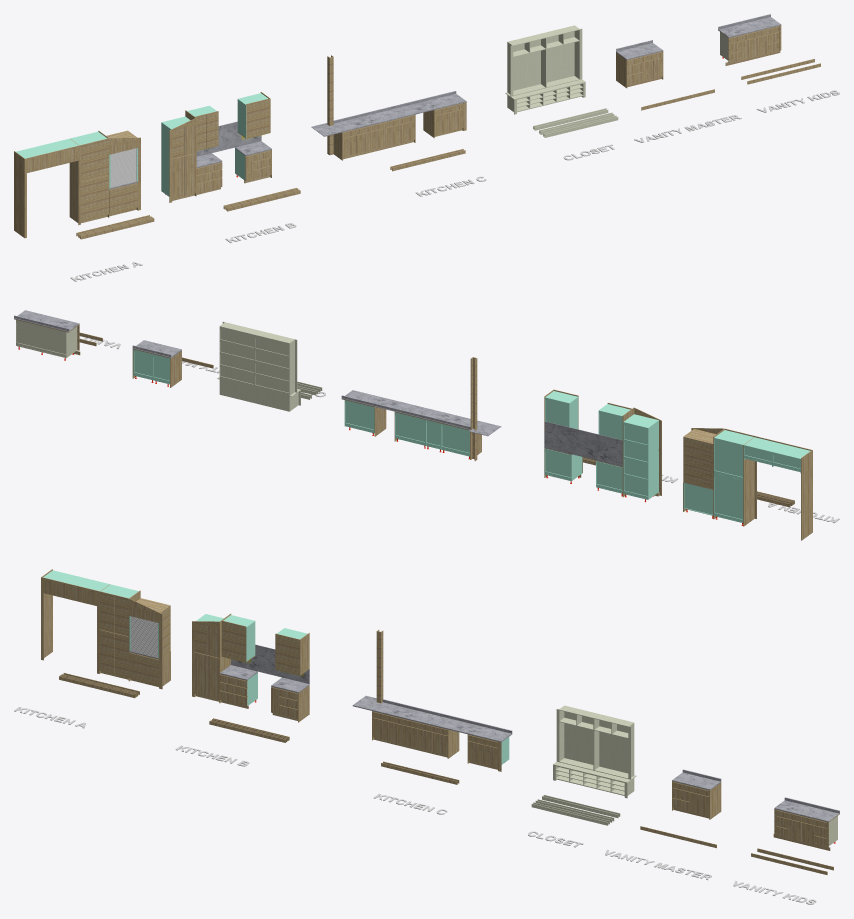
The model's file is DAIKITCHEN.glb.
3 renders of one model, top to bottom at view 1: azimuth 30°, elevation 25°; view 2: azimuth 150°, elevation 25°; view 3: azimuth 330°, elevation 25°, orthographic. The views are drawn at different scales.
Parts seen in each view (by area): view 1: _(Loose Entity), G-DAK26_Đá_KITC.T1T3, G-DAK26_Hậu_CLOS.T2, G-DAK26_Hậu_CLOS.T2.001, G-DAK26_Đá_KITB, G-DAK26_Hông trái hoàn thiện_KITA.T1, G-DAK26_Hông phải hoàn thiện 02_KITA.T7, G-DAK26_Hông trái_KITB.T1, G-DAK26_Đá_VAKID.001, _G-DAK26_Cánh phải_KITA.T3 (Loose Mesh), _G-DAK26_Cánh trái_KITA.T3 (Loose Mesh); view 2: G-DAK26_Đá_KITB, G-DAK26_Hậu_KITA.T5, G-DAK26_Hậu_KITB.T1, G-DAK26_Hậu_CLOS.T2.001, G-DAK26_Hậu_CLOS.T2, G-DAK26_Đá_KITC.T1T3, G-DAK26_Hậu_CLOS.T1, G-DAK26_Hậu_KITA.T3, _(Loose Entity), G-DAK26_Hậu_VAKID.T1, G-DAK26_Hông trái_KITB.T1, G-DAK26_Hậu_KITA.T2 (+12 smaller); view 3: _(Loose Entity), G-DAK26_Đá_KITC.T1T3, G-DAK26_Hậu_CLOS.T2.001, G-DAK26_Hậu_CLOS.T2, G-DAK26_Đá_KITB, G-DAK26_Đá_VAKID.001, _G-DAK26_Cánh trái_KITA.T3 (Loose Mesh), _G-DAK26_Cánh phải_KITA.T3 (Loose Mesh).
Part boxes in pixels (x1=…): _(Loose Entity): x1=25, y1=25, x2=781, y2=237; G-DAK26_Đá_KITC.T1T3: x1=333, y1=94, x2=466, y2=132; G-DAK26_Hậu_CLOS.T2: x1=513, y1=39, x2=540, y2=90; G-DAK26_Hậu_CLOS.T2.001: x1=547, y1=31, x2=574, y2=82; G-DAK26_Đá_KITB: x1=196, y1=121, x2=261, y2=156; G-DAK26_Hông trái hoàn thiện_KITA.T1: x1=14, y1=166, x2=25, y2=238; G-DAK26_Hông phải hoàn thiện 02_KITA.T7: x1=69, y1=159, x2=80, y2=224; G-DAK26_Hông trái_KITB.T1: x1=161, y1=122, x2=171, y2=196; G-DAK26_Đá_VAKID.001: x1=718, y1=17, x2=781, y2=37; _G-DAK26_Cánh phải_KITA.T3 (Loose Mesh): x1=95, y1=175, x2=108, y2=217; _G-DAK26_Cánh trái_KITA.T3 (Loose Mesh): x1=81, y1=178, x2=94, y2=221; G-DAK26_Đá_KITB: x1=544, y1=421, x2=622, y2=466; G-DAK26_Hậu_KITA.T5: x1=683, y1=436, x2=713, y2=489; G-DAK26_Hậu_KITB.T1: x1=624, y1=422, x2=647, y2=495; G-DAK26_Hậu_CLOS.T2.001: x1=220, y1=329, x2=253, y2=384; G-DAK26_Hậu_CLOS.T2: x1=255, y1=338, x2=288, y2=392; G-DAK26_Đá_KITC.T1T3: x1=342, y1=390, x2=481, y2=429; G-DAK26_Hậu_CLOS.T1: x1=220, y1=380, x2=288, y2=411; G-DAK26_Hậu_KITA.T3: x1=715, y1=476, x2=742, y2=519; _(Loose Entity): x1=73, y1=321, x2=811, y2=518; G-DAK26_Hậu_VAKID.T1: x1=17, y1=322, x2=65, y2=354; G-DAK26_Hông trái_KITB.T1: x1=647, y1=420, x2=658, y2=499; G-DAK26_Hậu_KITA.T2: x1=715, y1=437, x2=742, y2=476; _(Loose Entity): x1=41, y1=577, x2=830, y2=850; G-DAK26_Đá_KITC.T1T3: x1=372, y1=702, x2=512, y2=742; G-DAK26_Hậu_CLOS.T2.001: x1=599, y1=720, x2=628, y2=773; G-DAK26_Hậu_CLOS.T2: x1=564, y1=711, x2=593, y2=764; G-DAK26_Đá_KITB: x1=231, y1=644, x2=309, y2=683; G-DAK26_Đá_VAKID.001: x1=774, y1=800, x2=839, y2=822; _G-DAK26_Cánh trái_KITA.T3 (Loose Mesh): x1=99, y1=629, x2=114, y2=673; _G-DAK26_Cánh phải_KITA.T3 (Loose Mesh): x1=114, y1=633, x2=128, y2=677.
Bounding box in the file's own units: 25.49 × 3.63 × 2.91.
9 materials, 5 textured.
